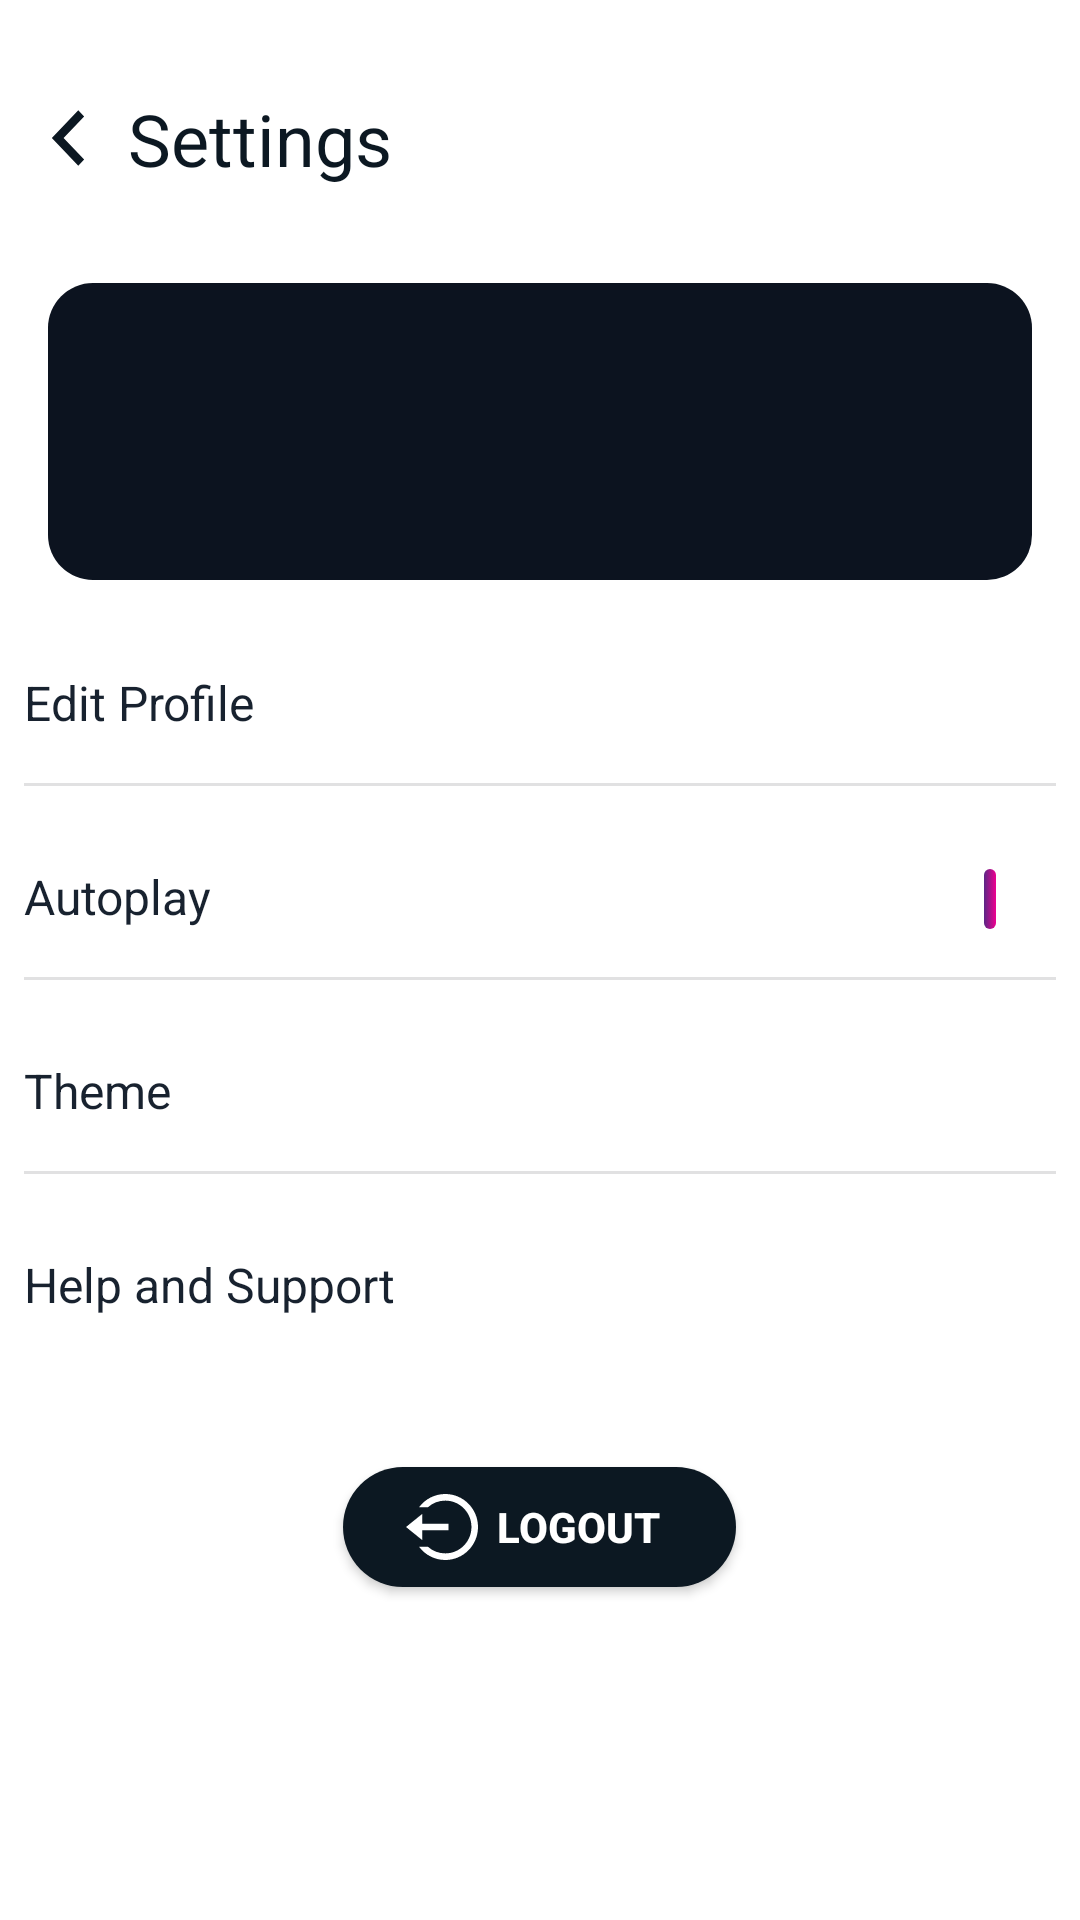

Screen size 1080×1920. Icon name, then its center in pixels as (x,y):
back arrow: (68,138)
